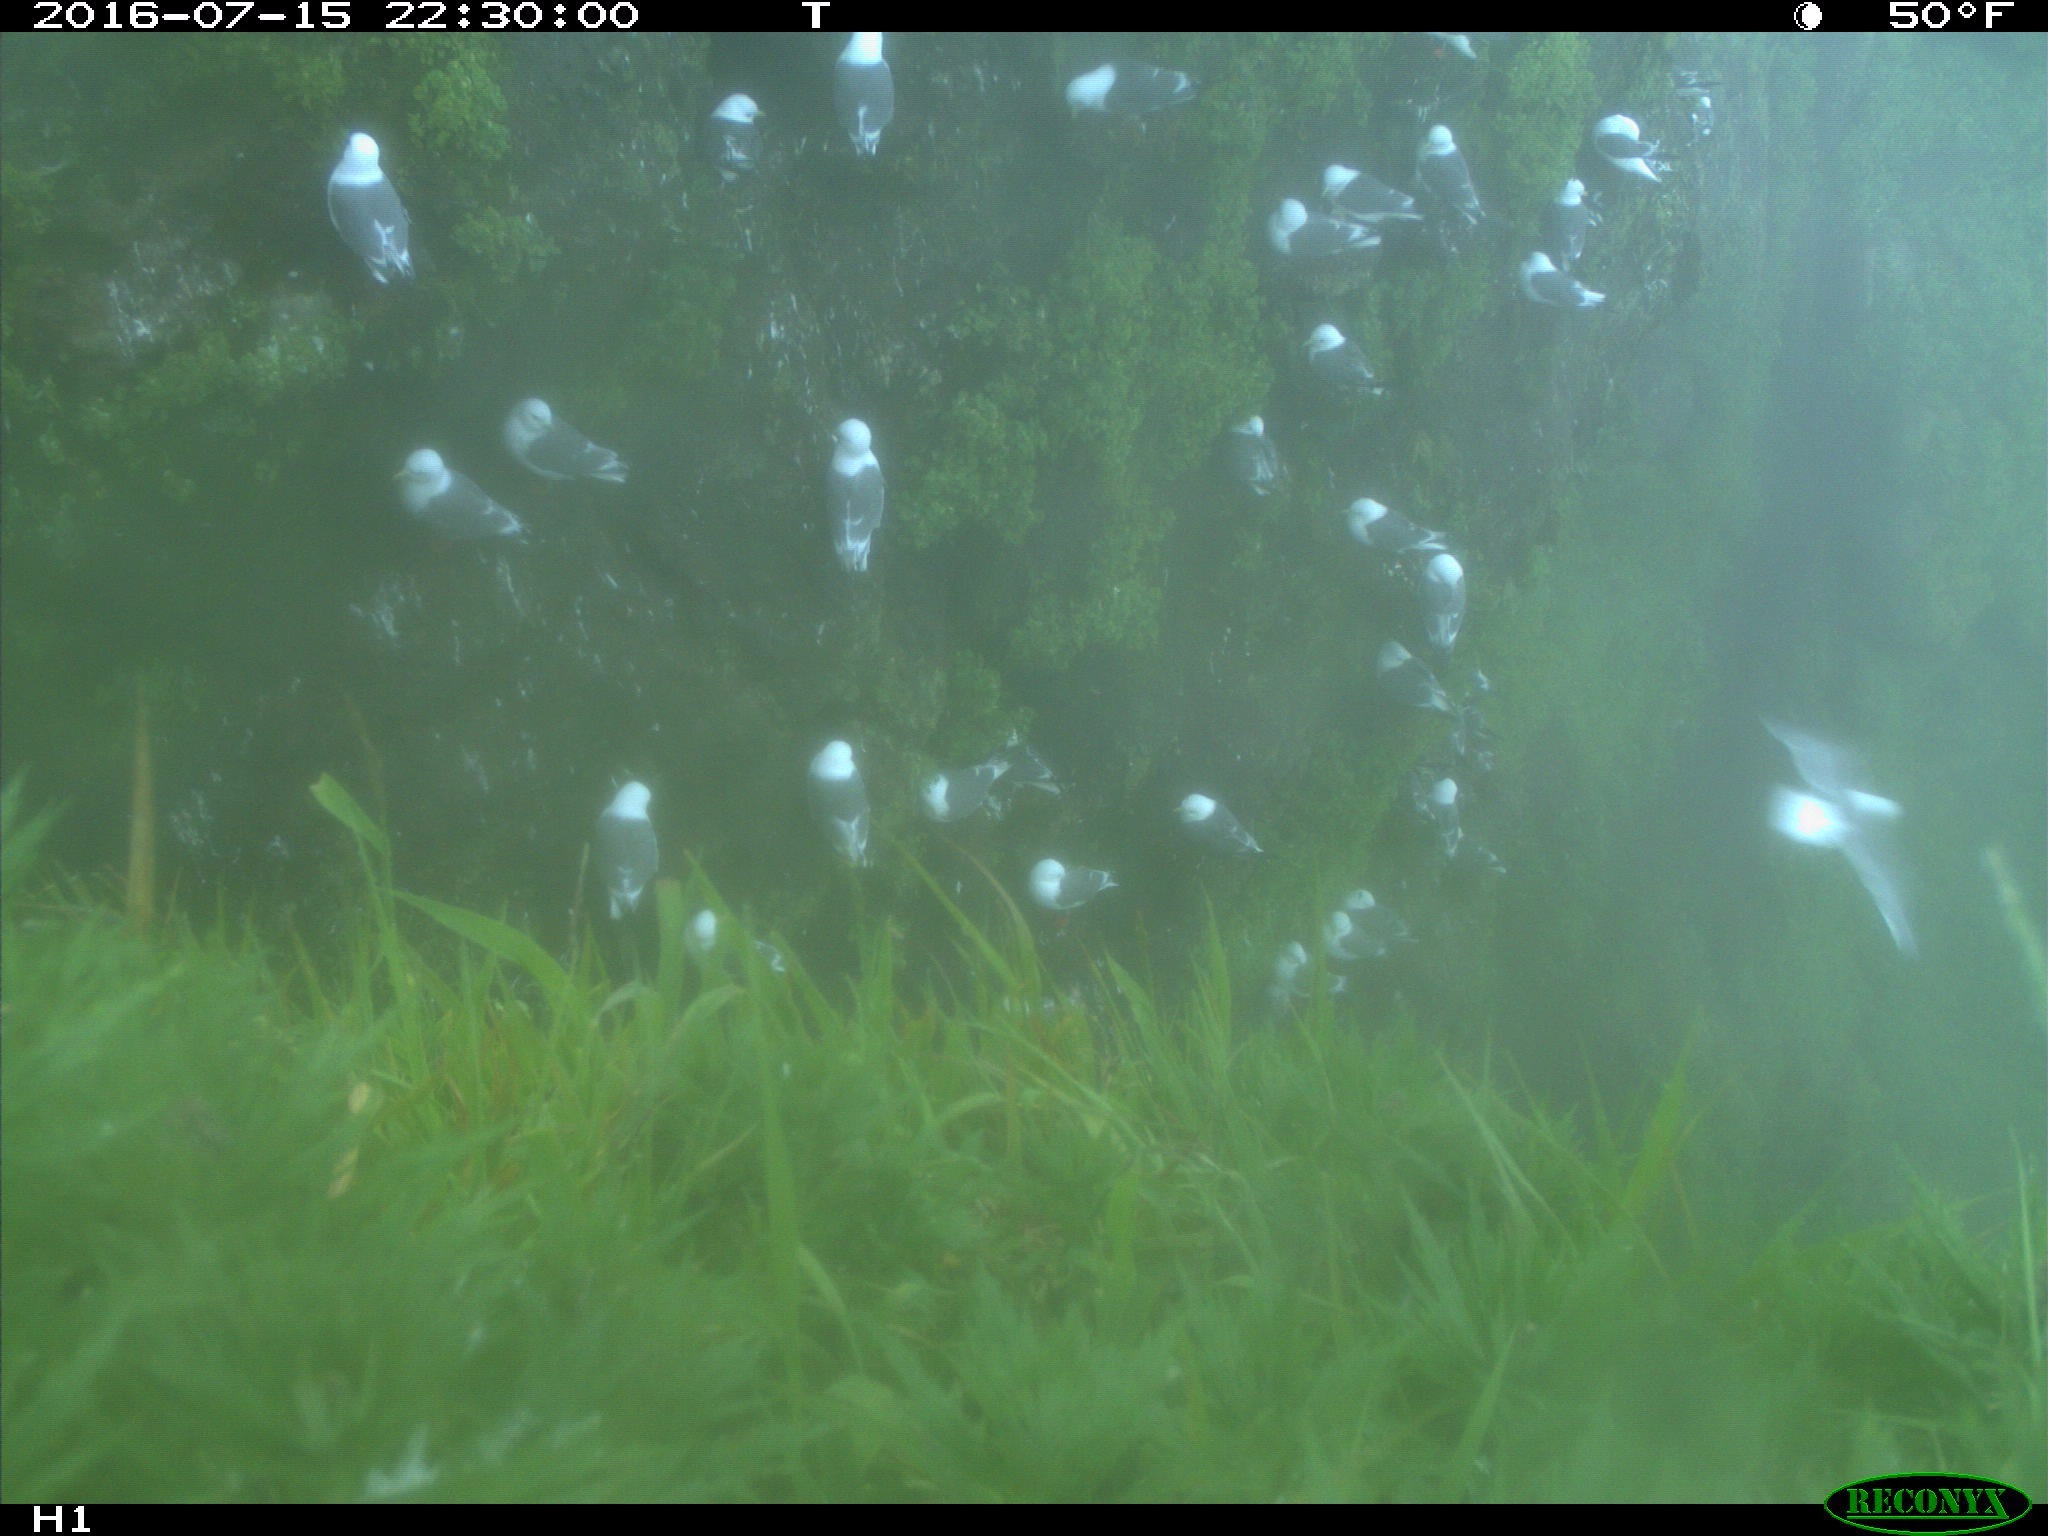Kittiwake: (1705, 682, 1969, 970), (279, 119, 468, 318), (485, 369, 685, 507), (797, 400, 926, 597), (376, 426, 543, 561), (805, 27, 927, 187), (584, 753, 674, 963), (1055, 42, 1250, 134), (916, 733, 1072, 839), (810, 699, 895, 891), (1376, 541, 1513, 657), (1385, 750, 1492, 894), (685, 73, 785, 216), (1300, 153, 1450, 248), (1151, 763, 1279, 873), (1500, 234, 1646, 329), (682, 891, 806, 997), (1293, 294, 1414, 402), (1564, 102, 1706, 194), (1253, 190, 1400, 279), (1313, 474, 1451, 563), (1405, 111, 1493, 247), (1342, 621, 1461, 718), (1209, 397, 1309, 507), (998, 845, 1135, 925), (1263, 934, 1374, 1021), (1297, 900, 1426, 975), (1535, 169, 1624, 266), (1321, 865, 1422, 941), (1675, 63, 1750, 152), (1367, 32, 1488, 66)
